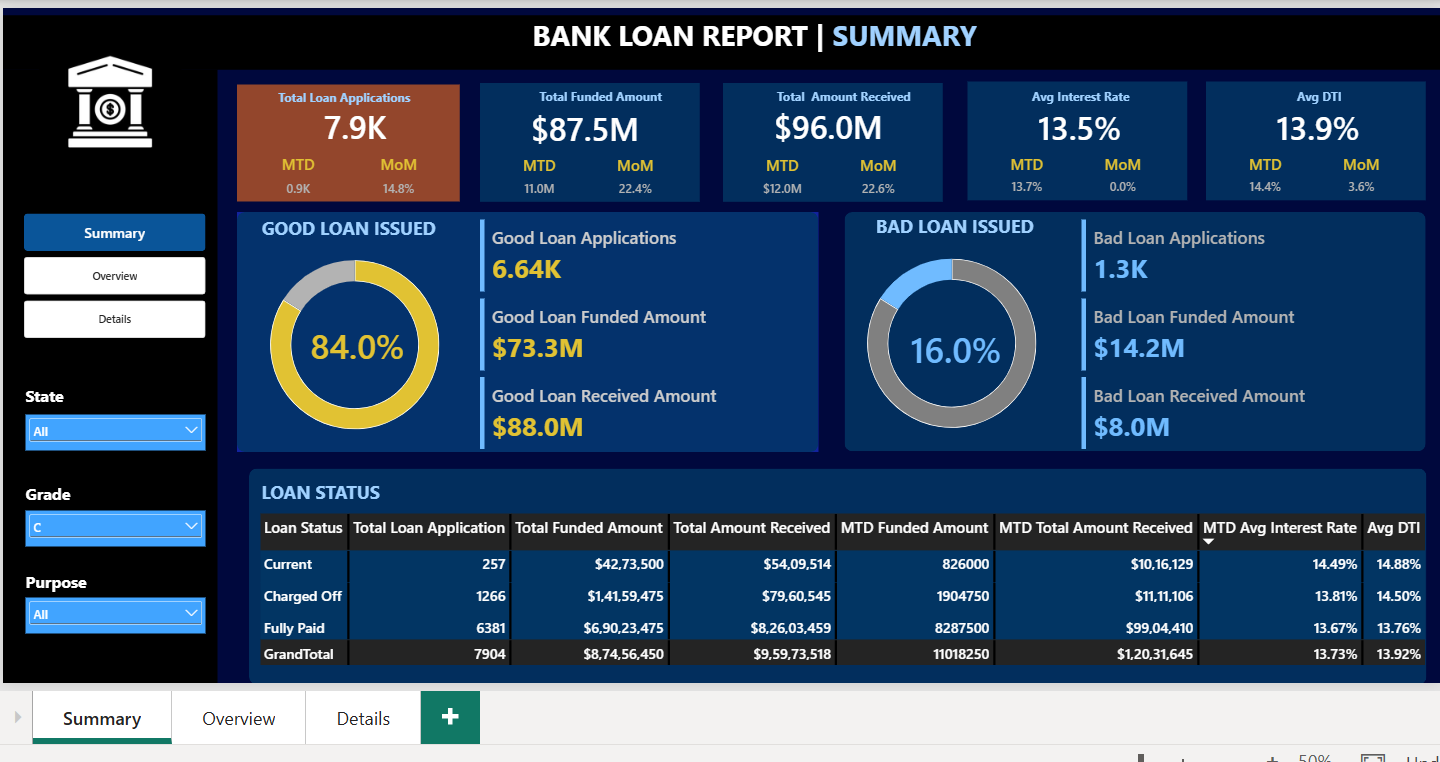

This screenshot's page, from the dashboard's own definition file:
{"tool":"powerbi","page":{"name":"Summary","canvas":[1915,900],"ordinal":0},"visuals":[{"type":"shape","box":[0,10,1920,72],"z":0},{"type":"shape","box":[1286,98,293,158.4],"z":0,"group":"g5"},{"type":"shape","box":[1604,98,293,158.4],"z":0,"group":"g6"},{"type":"shape","box":[636.9,100,293,158.4],"z":0,"group":"g3"},{"type":"shape","box":[960,100,293,158.4],"z":0,"group":"g4"},{"type":"group","id":"g1","title":"Group 2","box":[300,102,310,174],"z":0,"group":"g2"},{"type":"shape","box":[312,102,297,156],"z":0,"group":"g1"},{"type":"cardVisual","fields":{"Data":["bank_loan_data.Total Amount Received"]},"box":[1012,128,236,56],"z":1000,"group":"g4"},{"type":"cardVisual","fields":{"Data":["bank_loan_data.Total Loan Application"]},"box":[378,132,183.1,50],"z":1000,"group":"g1"},{"type":"cardVisual","fields":{"Data":["bank_loan_data.Avg Interest Rate"]},"box":[1364,134,207.1,47.8],"z":1000,"group":"g5"},{"type":"cardVisual","fields":{"Data":["bank_loan_data.Avg DTI"]},"box":[1682,134,207.1,47.8],"z":1000,"group":"g6"},{"type":"cardVisual","fields":{"Data":["bank_loan_data.Total Funded Amount"]},"box":[688,136,207.1,47.8],"z":1000,"group":"g3"},{"type":"shape","box":[312,272,775,320],"z":1000},{"type":"shape","box":[0,10,1920,72],"z":2000},{"type":"textbox","box":[300,108,310,32],"z":2000,"group":"g1"},{"type":"card","title":"MTD","fields":{"Values":["bank_loan_data.MTD Avg Interest Rate"]},"box":[1293.1,180,142.4,91.8],"z":2000,"group":"g5"},{"type":"card","title":"MTD","fields":{"Values":["bank_loan_data.MTD Avg DTI"]},"box":[1611.1,180,142.4,91.8],"z":2000,"group":"g6"},{"type":"card","title":"MTD","fields":{"Values":["bank_loan_data.MTD Funded Amount"]},"box":[644,182,142.4,91.8],"z":2000,"group":"g3"},{"type":"card","title":"MTD","fields":{"Values":["bank_loan_data.MTD Total Amount Received"]},"box":[967.1,182,142.4,91.8],"z":2000,"group":"g4"},{"type":"card","title":"MTD","fields":{"Values":["bank_loan_data.MTD Loan Applications"]},"box":[312,180,163.3,96],"z":3000,"group":"g1"},{"type":"card","title":"MoM","fields":{"Values":["bank_loan_data.MoM Avg Int Rate"]},"box":[1421.1,180,142.4,91.8],"z":3000,"group":"g5"},{"type":"card","title":"MoM","fields":{"Values":["bank_loan_data.MoM Avg DTI"]},"box":[1739.1,180,142.4,91.8],"z":3000,"group":"g6"},{"type":"card","title":"MoM","fields":{"Values":["bank_loan_data.MoM Funded Amount"]},"box":[772,182,142.4,91.8],"z":3000,"group":"g3"},{"type":"card","title":"MoM","fields":{"Values":["bank_loan_data.MoM Total Amount Received"]},"box":[1095.1,182,142.4,91.8],"z":3000,"group":"g4"},{"type":"cardVisual","fields":{"Data":["bank_loan_data.Good Loan %"]},"box":[394,410,170,78],"z":3000},{"type":"textbox","box":[689,106,218,40],"z":4000,"group":"g3"},{"type":"textbox","box":[1012.1,106,218,40],"z":4000,"group":"g4"},{"type":"textbox","box":[1318,106,238,38],"z":4000,"group":"g5"},{"type":"textbox","box":[1636,106,238,38],"z":4000,"group":"g6"},{"type":"card","title":"MoM","fields":{"Values":["bank_loan_data.MoM Loan Applications"]},"box":[445.6,180,163.3,96],"z":4000,"group":"g1"},{"type":"textbox","box":[328,276,266,52],"z":4000},{"type":"shape","box":[0,82,286,818],"z":5000},{"type":"textbox","box":[706,10,660,62],"z":6000},{"type":"group","id":"g2","title":"Group 1","box":[300,102,310,174],"z":7000},{"type":"group","id":"g3","title":"Group 3","box":[636.9,100,293,173.8],"z":8000},{"type":"group","id":"g4","title":"Group 3","box":[960,100,293,173.8],"z":9000},{"type":"group","id":"g5","title":"Group 3","box":[1286,98,293,173.8],"z":10000},{"type":"group","id":"g6","title":"Group 3","box":[1604,98,294,174],"z":11000},{"type":"donutChart","fields":{"Category":["bank_loan_data.Good vs Bad loan"],"Y":["bank_loan_data.Total Loan Application"]},"box":[222,294,494,312],"z":12000},{"type":"shape","box":[1122,272,775,319],"z":13000},{"type":"cardVisual","fields":{"Data":["bank_loan_data.Good Loan Applications","bank_loan_data.Good Loan Funded Amount","bank_loan_data.Good Loan Received Amount"]},"box":[636,282,430,306],"z":14000},{"type":"donutChart","fields":{"Category":["bank_loan_data.Good vs Bad loan"],"Y":["bank_loan_data.Total Loan Application"]},"box":[1017.5,292.5,494,312],"z":15000},{"type":"textbox","box":[1130,274,278,54],"z":16000},{"type":"cardVisual","fields":{"Data":["bank_loan_data.Bad Loan %"]},"box":[1194,414,170,78],"z":17000},{"type":"cardVisual","fields":{"Data":["bank_loan_data.Bad Loan Applications","bank_loan_data.Bad Loan Funded Amount","bank_loan_data.Bad Loan Received Amount"]},"box":[1438,282,430,306],"z":18000},{"type":"shape","box":[328,614,1570,288],"z":19000},{"type":"tableEx","fields":{"Values":["bank_loan_data.loan_status","bank_loan_data.Total Loan Application","bank_loan_data.Total Funded Amount","bank_loan_data.Total Amount Received","bank_loan_data.MTD Funded Amount","bank_loan_data.MTD Total Amount Received","bank_loan_data.MTD Avg Interest Rate","bank_loan_data.Avg DTI"]},"box":[326,660,1590,240],"z":20000},{"type":"textbox","box":[338,628,266,32],"z":21000},{"type":"slicer","fields":{"Values":["bank_loan_data.address_state"]},"box":[30.7,541.3,240,48],"z":22000},{"type":"textbox","box":[30.7,501.3,154,40],"z":23000},{"type":"slicer","fields":{"Values":["bank_loan_data.grade"]},"box":[30.7,669.3,240,48],"z":24000},{"type":"textbox","box":[30.7,631.3,168,38],"z":25000},{"type":"slicer","fields":{"Values":["bank_loan_data.purpose"]},"box":[29.3,786,240,48],"z":26000},{"type":"textbox","box":[29.3,750,178,36],"z":27000},{"type":"image","box":[46,30,194,190],"z":28000},{"type":"pageNavigator","box":[28,274,242,168],"z":29000}]}

Visuals, with their boxes on the page's 1915x900 design canvas (x1, y1, x2, y2). These are canvas units, not pixel positions in the 1440x762 screenshot, which may show the page scaled, cropped or inside an application window:
shape: x1=0, y1=10, x2=1920, y2=82
shape: x1=1286, y1=98, x2=1579, y2=256
shape: x1=1604, y1=98, x2=1897, y2=256
shape: x1=637, y1=100, x2=930, y2=258
shape: x1=960, y1=100, x2=1253, y2=258
"Group 2" group: x1=300, y1=102, x2=610, y2=276
shape: x1=312, y1=102, x2=609, y2=258
cardVisual - bank_loan_data.Total Amount Received: x1=1012, y1=128, x2=1248, y2=184
cardVisual - bank_loan_data.Total Loan Application: x1=378, y1=132, x2=561, y2=182
cardVisual - bank_loan_data.Avg Interest Rate: x1=1364, y1=134, x2=1571, y2=182
cardVisual - bank_loan_data.Avg DTI: x1=1682, y1=134, x2=1889, y2=182
cardVisual - bank_loan_data.Total Funded Amount: x1=688, y1=136, x2=895, y2=184
shape: x1=312, y1=272, x2=1087, y2=592
shape: x1=0, y1=10, x2=1920, y2=82
textbox: x1=300, y1=108, x2=610, y2=140
"MTD" card: x1=1293, y1=180, x2=1436, y2=272
"MTD" card: x1=1611, y1=180, x2=1754, y2=272
"MTD" card: x1=644, y1=182, x2=786, y2=274
"MTD" card: x1=967, y1=182, x2=1110, y2=274
"MTD" card: x1=312, y1=180, x2=475, y2=276
"MoM" card: x1=1421, y1=180, x2=1564, y2=272
"MoM" card: x1=1739, y1=180, x2=1882, y2=272
"MoM" card: x1=772, y1=182, x2=914, y2=274
"MoM" card: x1=1095, y1=182, x2=1238, y2=274
cardVisual - bank_loan_data.Good Loan %: x1=394, y1=410, x2=564, y2=488
textbox: x1=689, y1=106, x2=907, y2=146
textbox: x1=1012, y1=106, x2=1230, y2=146
textbox: x1=1318, y1=106, x2=1556, y2=144
textbox: x1=1636, y1=106, x2=1874, y2=144
"MoM" card: x1=446, y1=180, x2=609, y2=276
textbox: x1=328, y1=276, x2=594, y2=328
shape: x1=0, y1=82, x2=286, y2=900
textbox: x1=706, y1=10, x2=1366, y2=72
"Group 1" group: x1=300, y1=102, x2=610, y2=276
"Group 3" group: x1=637, y1=100, x2=930, y2=274
"Group 3" group: x1=960, y1=100, x2=1253, y2=274
"Group 3" group: x1=1286, y1=98, x2=1579, y2=272
"Group 3" group: x1=1604, y1=98, x2=1898, y2=272
donutChart - bank_loan_data.Good vs Bad loan x bank_loan_data.Total Loan Application: x1=222, y1=294, x2=716, y2=606
shape: x1=1122, y1=272, x2=1897, y2=591
cardVisual - bank_loan_data.Good Loan Applications x bank_loan_data.Good Loan Funded Amount: x1=636, y1=282, x2=1066, y2=588
donutChart - bank_loan_data.Good vs Bad loan x bank_loan_data.Total Loan Application: x1=1018, y1=292, x2=1512, y2=604
textbox: x1=1130, y1=274, x2=1408, y2=328
cardVisual - bank_loan_data.Bad Loan %: x1=1194, y1=414, x2=1364, y2=492
cardVisual - bank_loan_data.Bad Loan Applications x bank_loan_data.Bad Loan Funded Amount: x1=1438, y1=282, x2=1868, y2=588
shape: x1=328, y1=614, x2=1898, y2=902
tableEx - bank_loan_data.loan_status x bank_loan_data.Total Loan Application: x1=326, y1=660, x2=1916, y2=900
textbox: x1=338, y1=628, x2=604, y2=660
slicer - bank_loan_data.address_state: x1=31, y1=541, x2=271, y2=589
textbox: x1=31, y1=501, x2=185, y2=541
slicer - bank_loan_data.grade: x1=31, y1=669, x2=271, y2=717
textbox: x1=31, y1=631, x2=199, y2=669
slicer - bank_loan_data.purpose: x1=29, y1=786, x2=269, y2=834
textbox: x1=29, y1=750, x2=207, y2=786
image: x1=46, y1=30, x2=240, y2=220
pageNavigator: x1=28, y1=274, x2=270, y2=442
